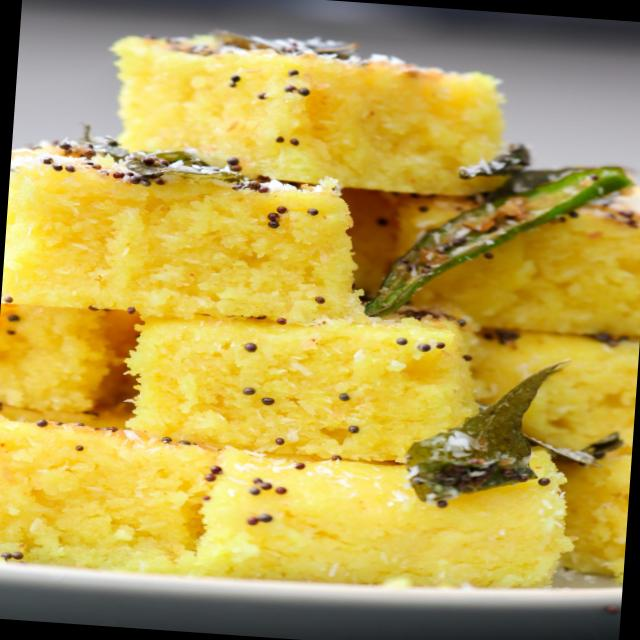dhokla: (0, 41, 634, 604)
